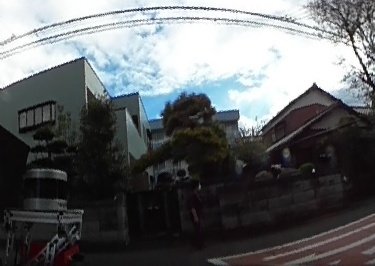person: (187, 178, 207, 249)
